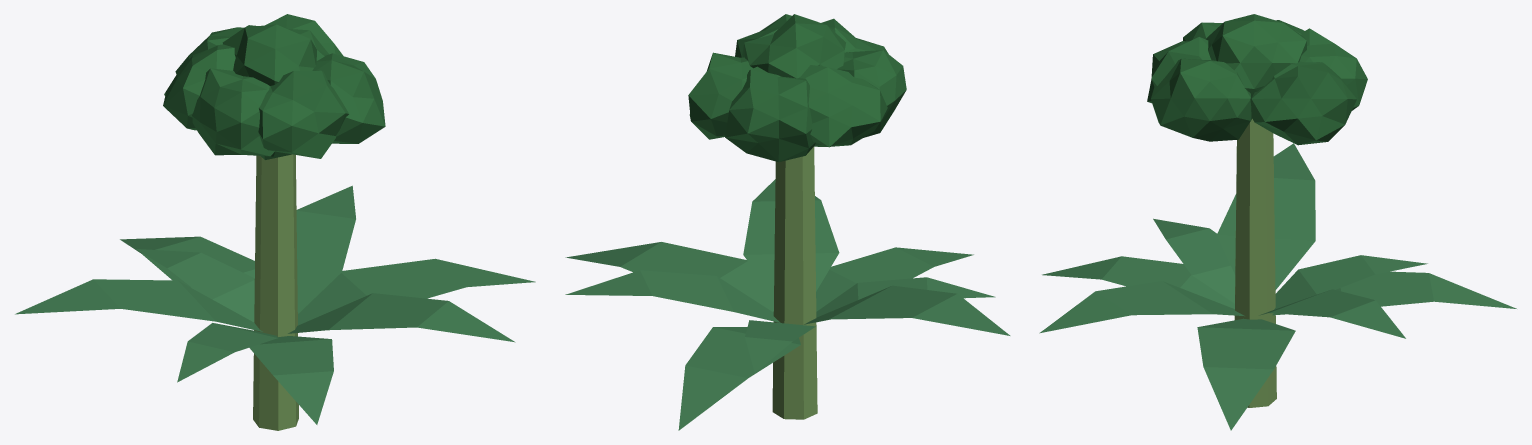
The model's file is broccoli.glb.
3 views of the same model, side by side, from view 1: azimuth 30°, elevation 25°; view 2: azimuth 150°, elevation 25°; view 3: azimuth 270°, elevation 25° (orthographic). The views are drawn at different scales.
Parts seen in each view (by area): view 1: broccoli; view 2: broccoli; view 3: broccoli.
Boxes of the visible parts, x1,y1,x2,y2 form: broccoli: (15, 14, 535, 430); broccoli: (565, 14, 1010, 430); broccoli: (1039, 14, 1516, 430).
Bounding box in the file's own units: 0.7142 × 0.5529 × 0.6347.
